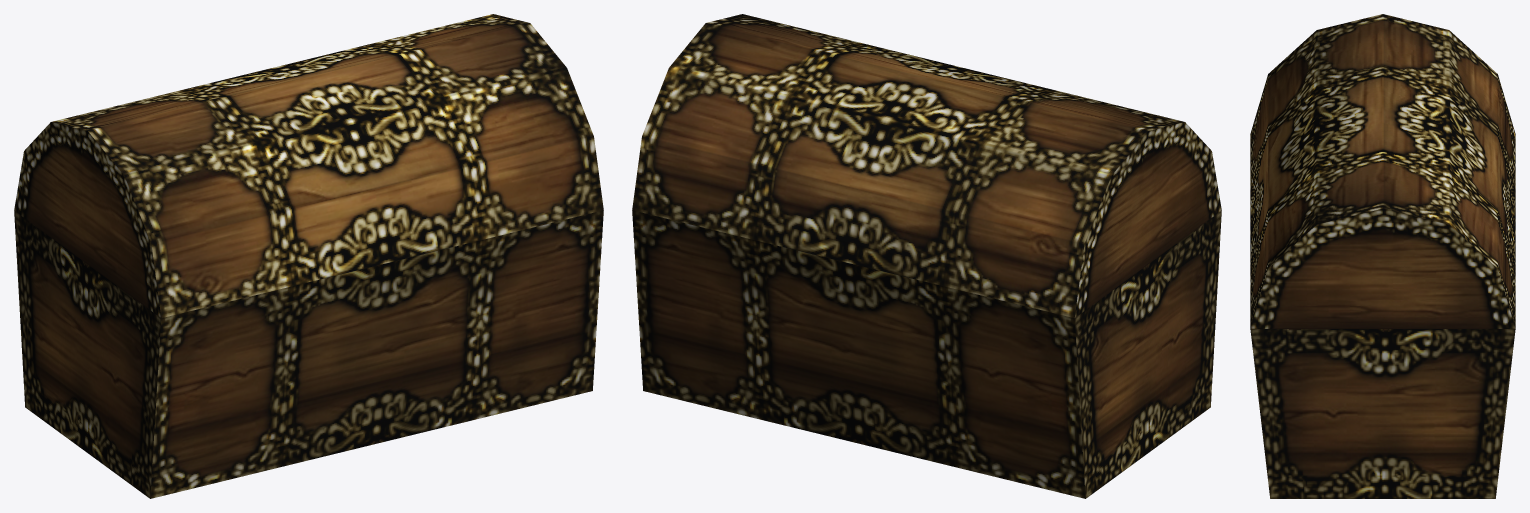
The model's file is MedievalChest_04_closed.fbx.
3 views of the same model, side by side, from view 1: azimuth 30°, elevation 25°; view 2: azimuth 150°, elevation 25°; view 3: azimuth 270°, elevation 25° (orthographic). The views are drawn at different scales.
Visible parts, largest first — view 1: Medieval_chest_04_closed; view 2: Medieval_chest_04_closed; view 3: Medieval_chest_04_closed.
Boxes of the visible parts, x1,y1,x2,y2 form: Medieval_chest_04_closed: (14, 14, 603, 498); Medieval_chest_04_closed: (632, 14, 1221, 498); Medieval_chest_04_closed: (1250, 14, 1515, 498).
Bounding box in the file's own units: 29.04 × 20.2 × 16.73.
